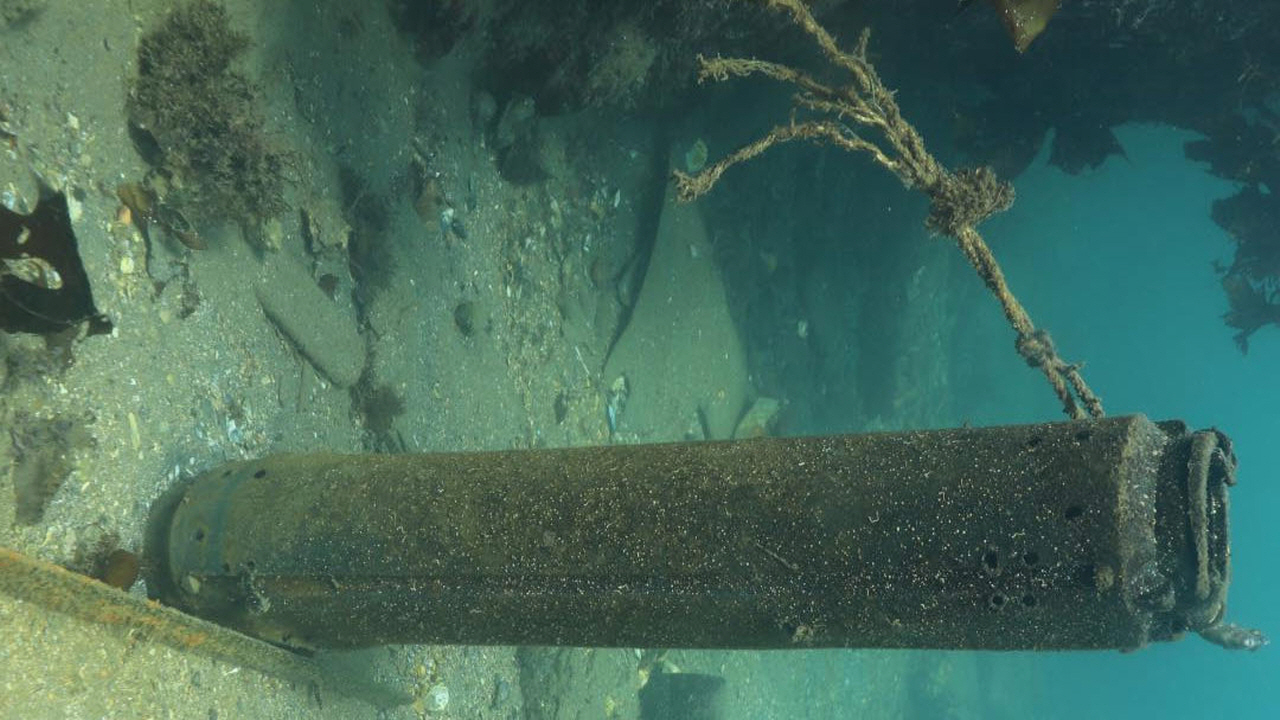bundle of ropes: (722, 13, 1107, 418)
eel fish trap: (137, 409, 1239, 660)
